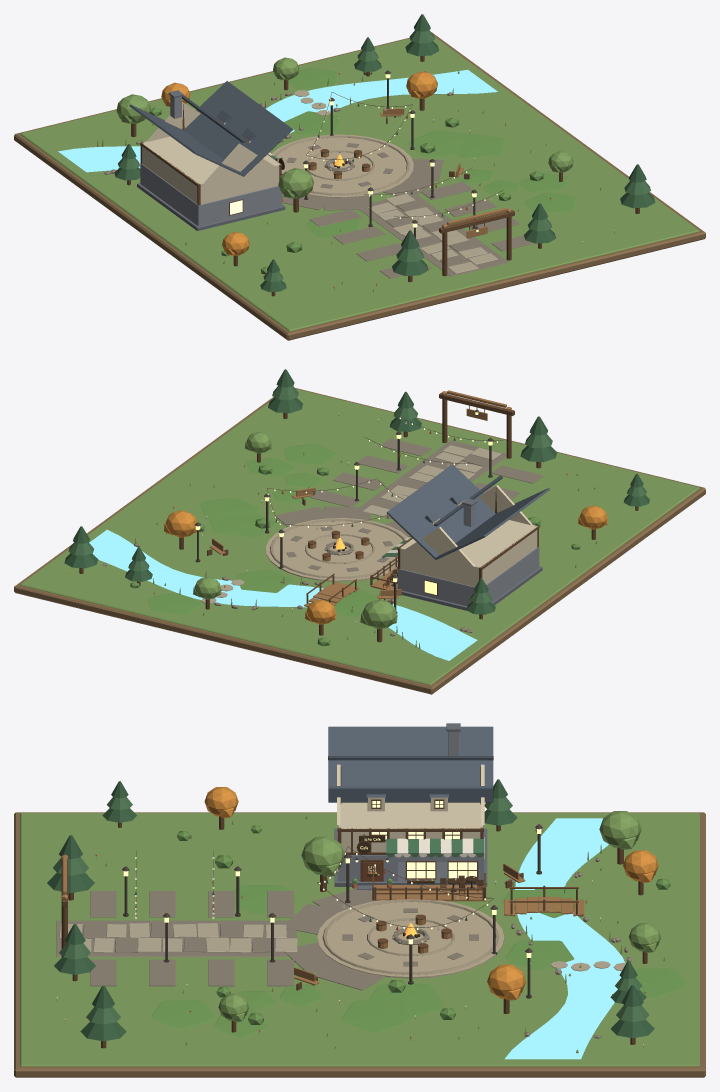
The model's file is echo_world_hub_town.glb.
3 renders of one model, top to bottom at view 1: azimuth 30°, elevation 25°; view 2: azimuth 150°, elevation 25°; view 3: azimuth 270°, elevation 25°, orthographic. The views are drawn at different scales.
Parts seen in each view (by area): view 1: GROUND_HubBase, BASE_EarthEdge, RIVER_Ribbon, GROUND_Plaza, ROOF_SlopeFront, WALL_Upper_Core, GROUND_StreetBase, WALL_Left_Stone, WALL_Back_Stone, ROOF_SlopeBack, GROUND_GrassPatch_01, GABLE_L (+15 smaller); view 2: GROUND_HubBase, BASE_EarthEdge, RIVER_Ribbon, GROUND_Plaza, WALL_Upper_Core, ROOF_SlopeFront, WALL_Right_Stone, GROUND_StreetBase, ROOF_SlopeBack, WALL_Back_Stone, GROUND_GrassPatch_01, GABLE_R (+14 smaller); view 3: GROUND_HubBase, RIVER_Ribbon, BASE_EarthEdge, GROUND_Plaza, ROOF_SlopeBack, WALL_Upper_Core, GROUND_StreetBase, ROOF_SlopeFront, GROUND_GrassPatch_01, GROUND_GrassPatch_05, GROUND_GrassPatch_03, GROUND_GrassPatch_13 (+31 smaller).
Part boxes in pixels (<box>): GROUND_HubBase: <box>20,36,699,331</box>; BASE_EarthEdge: <box>14,32,705,340</box>; RIVER_Ribbon: <box>58,69,497,172</box>; GROUND_Plaza: <box>272,134,413,197</box>; ROOF_SlopeFront: <box>184,81,292,176</box>; WALL_Upper_Core: <box>142,136,280,204</box>; GROUND_StreetBase: <box>358,195,508,276</box>; WALL_Left_Stone: <box>201,185,279,225</box>; WALL_Back_Stone: <box>140,163,201,226</box>; ROOF_SlopeBack: <box>129,104,244,176</box>; GROUND_GrassPatch_01: <box>407,130,470,157</box>; GABLE_L: <box>204,143,274,183</box>; GROUND_HubBase: <box>20,389,699,685</box>; BASE_EarthEdge: <box>14,388,705,694</box>; RIVER_Ribbon: <box>89,529,477,660</box>; GROUND_Plaza: <box>265,518,407,581</box>; WALL_Upper_Core: <box>400,520,537,586</box>; ROOF_SlopeFront: <box>386,464,495,558</box>; WALL_Right_Stone: <box>400,569,474,606</box>; GROUND_StreetBase: <box>360,440,506,518</box>; ROOF_SlopeBack: <box>435,488,549,559</box>; WALL_Back_Stone: <box>486,547,539,602</box>; GROUND_GrassPatch_01: <box>208,513,276,537</box>; GABLE_R: <box>404,527,474,566</box>; GROUND_HubBase: <box>20,813,699,1066</box>; RIVER_Ribbon: <box>504,818,624,1059</box>; BASE_EarthEdge: <box>14,812,705,1077</box>; GROUND_Plaza: <box>317,900,504,978</box>; ROOF_SlopeBack: <box>328,726,493,802</box>; WALL_Upper_Core: <box>338,802,482,852</box>; GROUND_StreetBase: <box>56,920,296,956</box>; ROOF_SlopeFront: <box>328,786,493,802</box>; GROUND_GrassPatch_01: <box>368,983,443,1019</box>; GROUND_GrassPatch_05: <box>505,940,574,970</box>; GROUND_GrassPatch_03: <box>342,1000,411,1032</box>; GROUND_GrassPatch_13: <box>151,1000,214,1028</box>.
Bounding box in the file's own units: 30 × 7.22 × 34.
